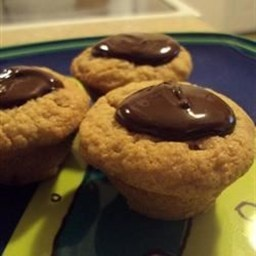background: (0, 12, 102, 88)
